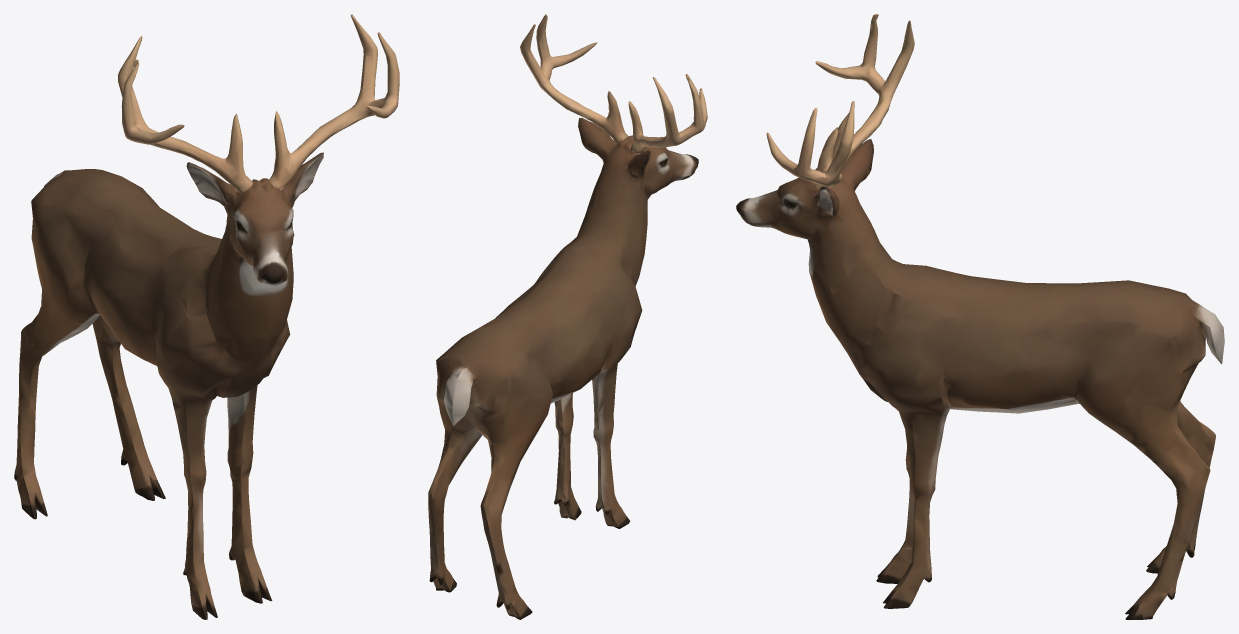
The model's file is deer_white_idle.glb.
3 renders of one model, left to right at view 1: azimuth 30°, elevation 25°; view 2: azimuth 150°, elevation 25°; view 3: azimuth 270°, elevation 25°, orthographic. The views are drawn at different scales.
Parts seen in each view (by area): view 1: tripo_node_a8cc743c-0e1b-4db2-a864-84640d631295; view 2: tripo_node_a8cc743c-0e1b-4db2-a864-84640d631295; view 3: tripo_node_a8cc743c-0e1b-4db2-a864-84640d631295.
Boxes of the visible parts, <box> form: tripo_node_a8cc743c-0e1b-4db2-a864-84640d631295: <box>14,14,399,619</box>; tripo_node_a8cc743c-0e1b-4db2-a864-84640d631295: <box>428,14,707,619</box>; tripo_node_a8cc743c-0e1b-4db2-a864-84640d631295: <box>736,14,1224,619</box>.
Size of the model in its own units: 0.7801 by 1.8 by 1.49.
Materials: 1 (1 with a texture image).
